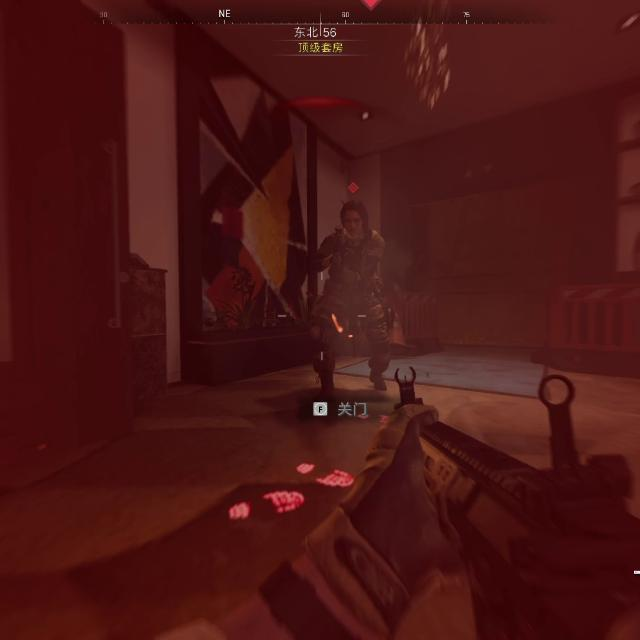MW2_body: (304, 182, 391, 401)
